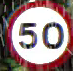Speed limit: (6, 0, 72, 69)
